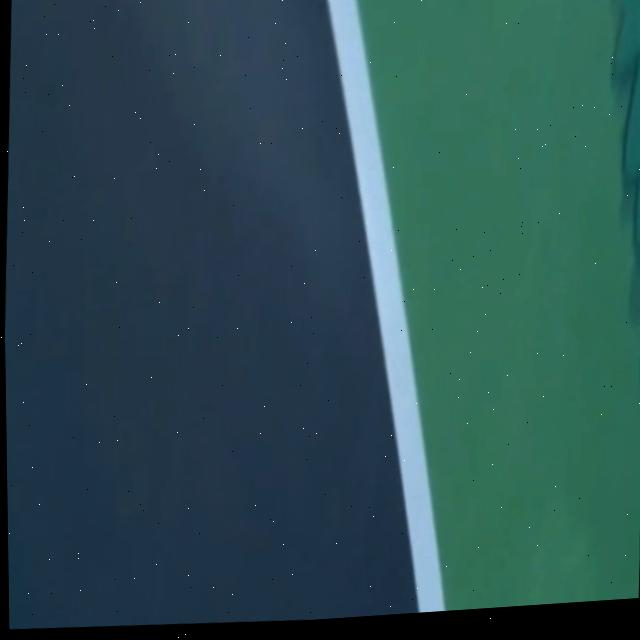right: (326, 0, 443, 613)
